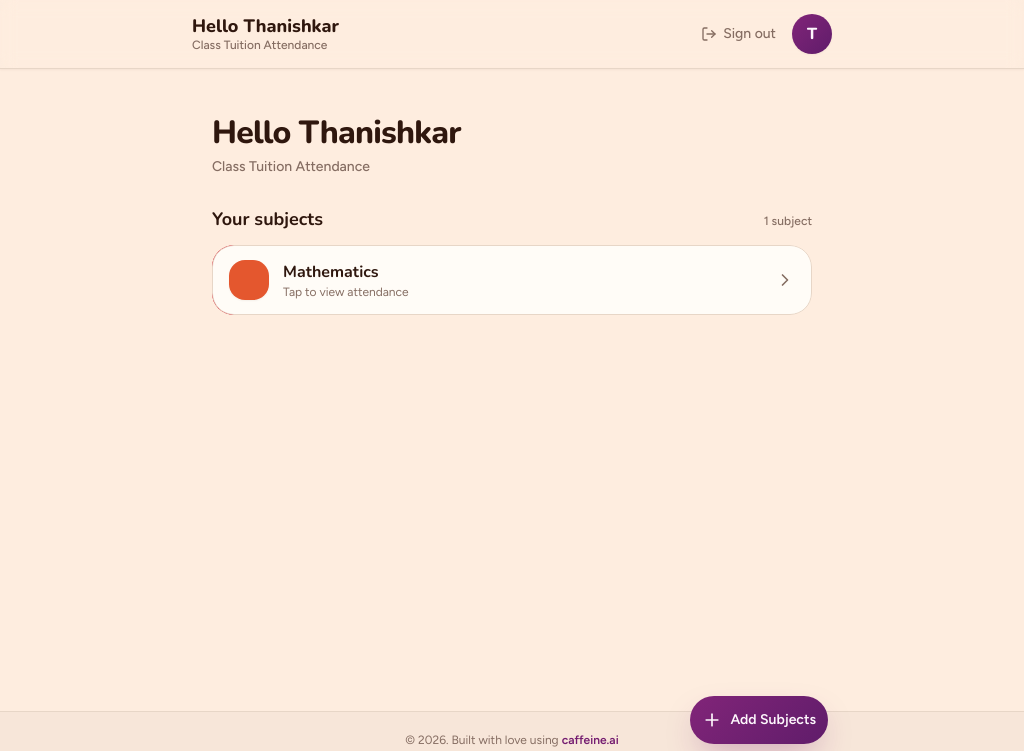
Test: characterization: subject page header and empty state › shows the subject's name, colour swatch, and attendance-record subtitle
The width and height of the screenshot is (1024, 751).
Click the link "Mathematics Tap to view attendance".
click(249, 280)  # box [212,245,812,315]
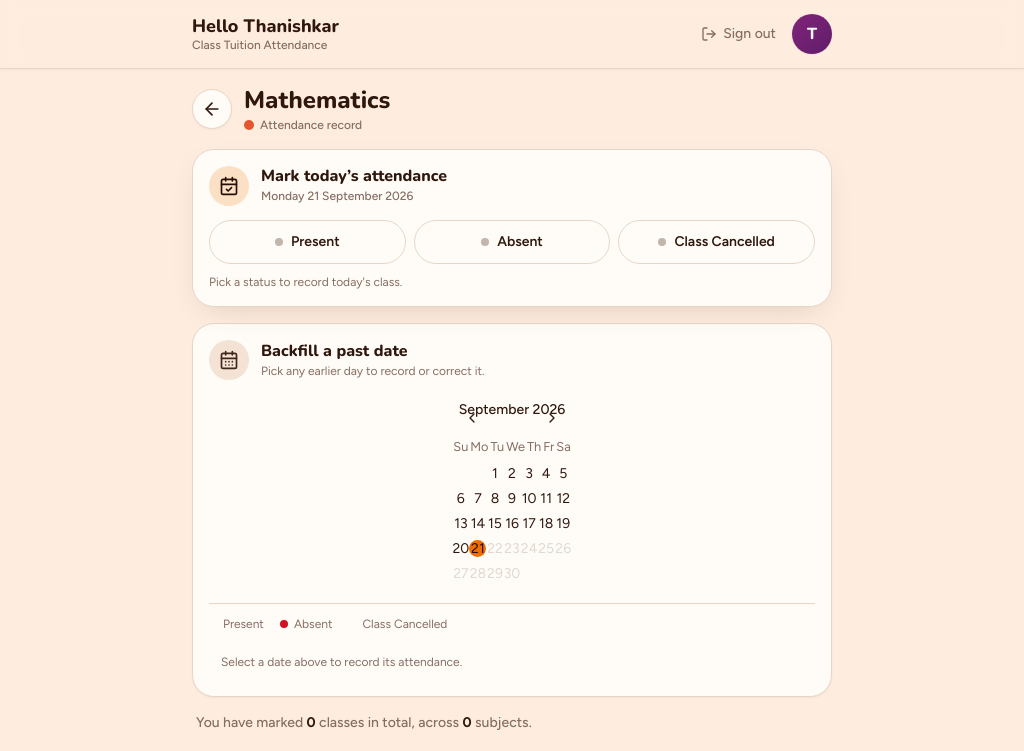
expect the heading "Mathematics" is shown: met, box [244,84,390,116]
expect the text "Attendance record" is shown: met, box [244,118,362,132]
